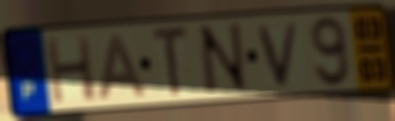9: (307, 14, 351, 89)
A: (96, 32, 149, 103)
H: (43, 33, 99, 107)
N: (196, 21, 252, 98)
T: (150, 23, 192, 101)
V: (255, 19, 303, 90)
